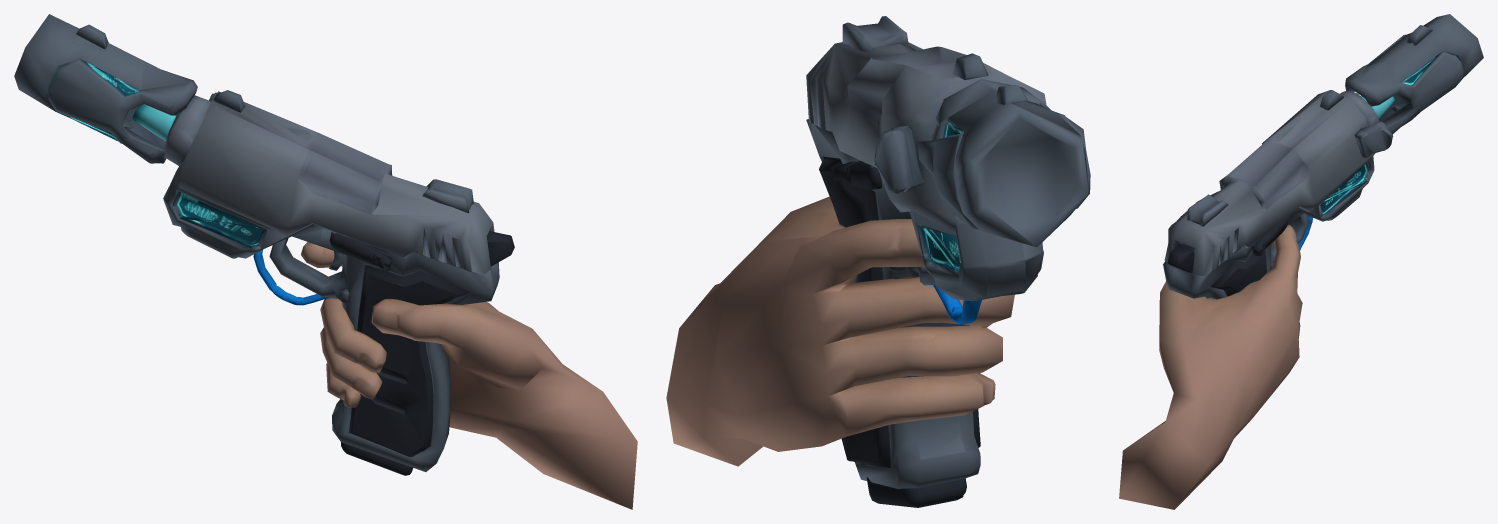
The model's file is 019e0ca1-6d40-7031-ba72-7cca1d9b9718.glb.
The picture shows the model from 3 angles, left to right: view 1: azimuth 30°, elevation 25°; view 2: azimuth 150°, elevation 25°; view 3: azimuth 270°, elevation 25°; orthographic projection. The views are drawn at different scales.
Parts seen in each view (by area): view 1: tripo_node_bac3edbd-5f45-4b3b-a94a-57bbe4569f58; view 2: tripo_node_bac3edbd-5f45-4b3b-a94a-57bbe4569f58; view 3: tripo_node_bac3edbd-5f45-4b3b-a94a-57bbe4569f58.
Part boxes in pixels (left/top/right/bottom): tripo_node_bac3edbd-5f45-4b3b-a94a-57bbe4569f58: left=14, top=14, right=637, bottom=509; tripo_node_bac3edbd-5f45-4b3b-a94a-57bbe4569f58: left=666, top=16, right=1090, bottom=507; tripo_node_bac3edbd-5f45-4b3b-a94a-57bbe4569f58: left=1119, top=14, right=1483, bottom=509.
Size of the model in its own units: 0.998 by 0.9629 by 0.9238.
1 material, 1 textured.
